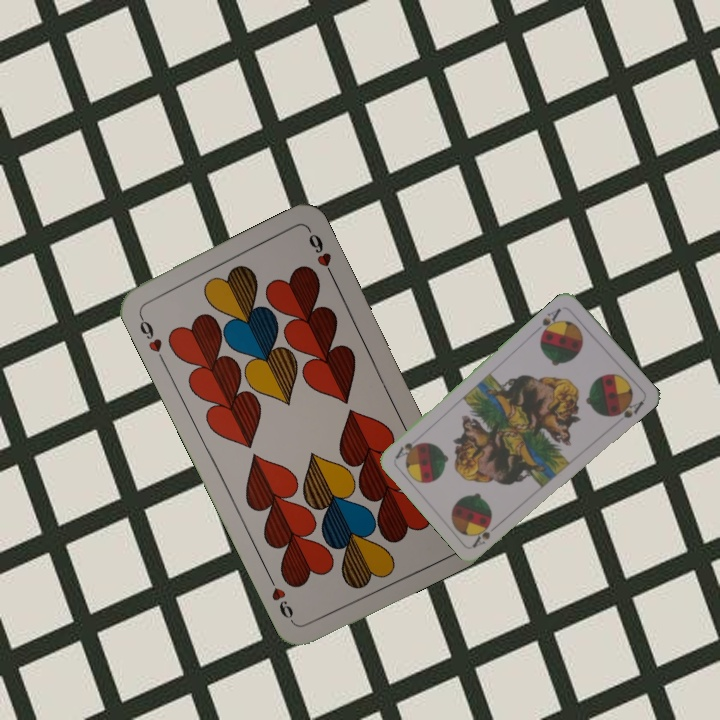H9: (135, 310, 168, 365)
SA: (537, 304, 564, 339), (469, 519, 494, 550)
